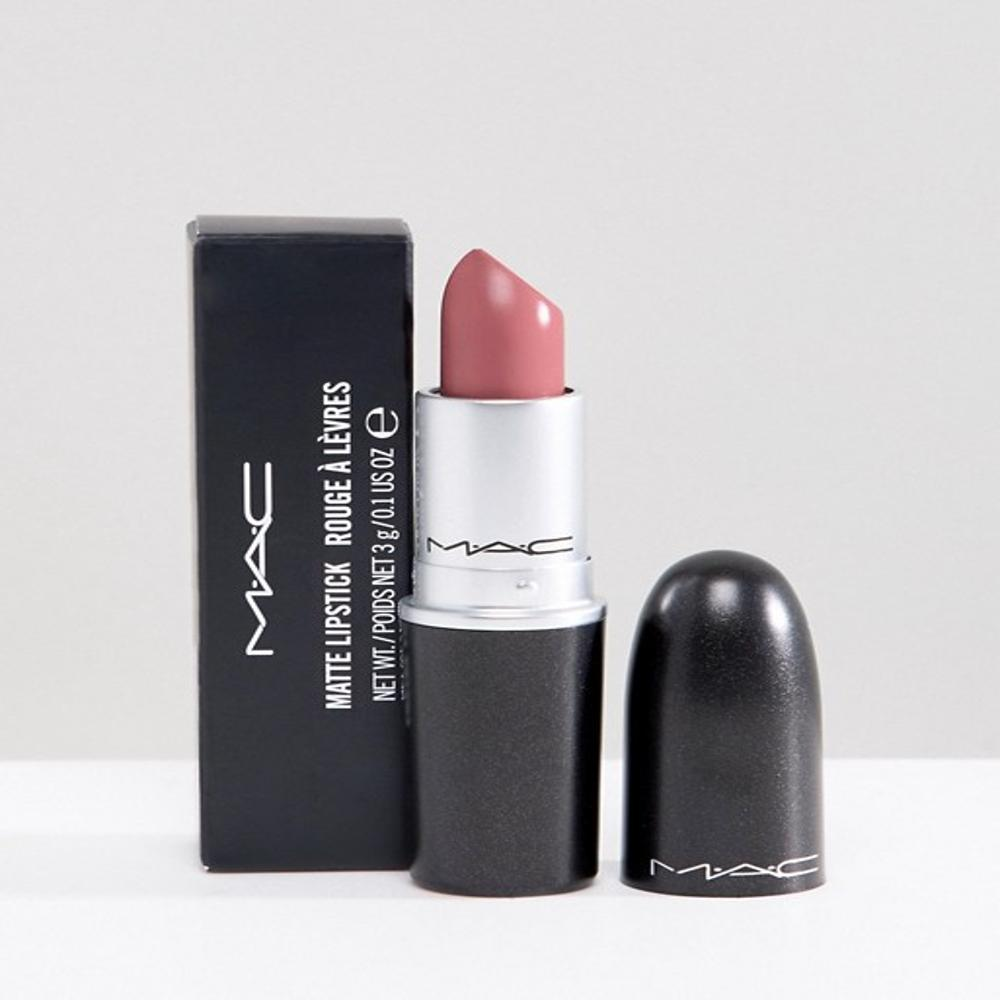lipstick: (408, 208, 627, 897)
